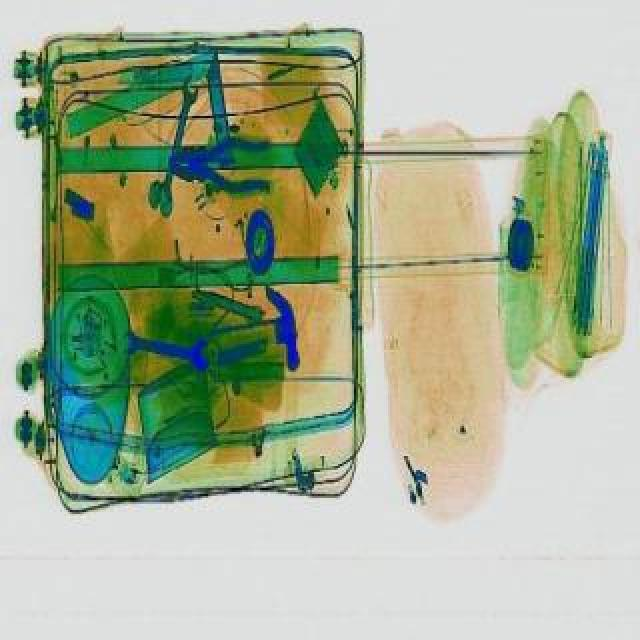scissors: (150, 78, 206, 214), (118, 330, 214, 376)
wrench: (170, 136, 276, 200)
